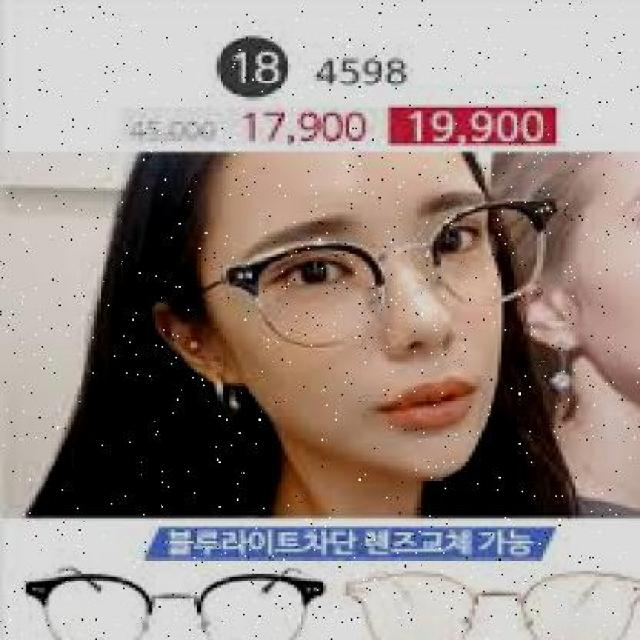glasses: (202, 185, 590, 360)
